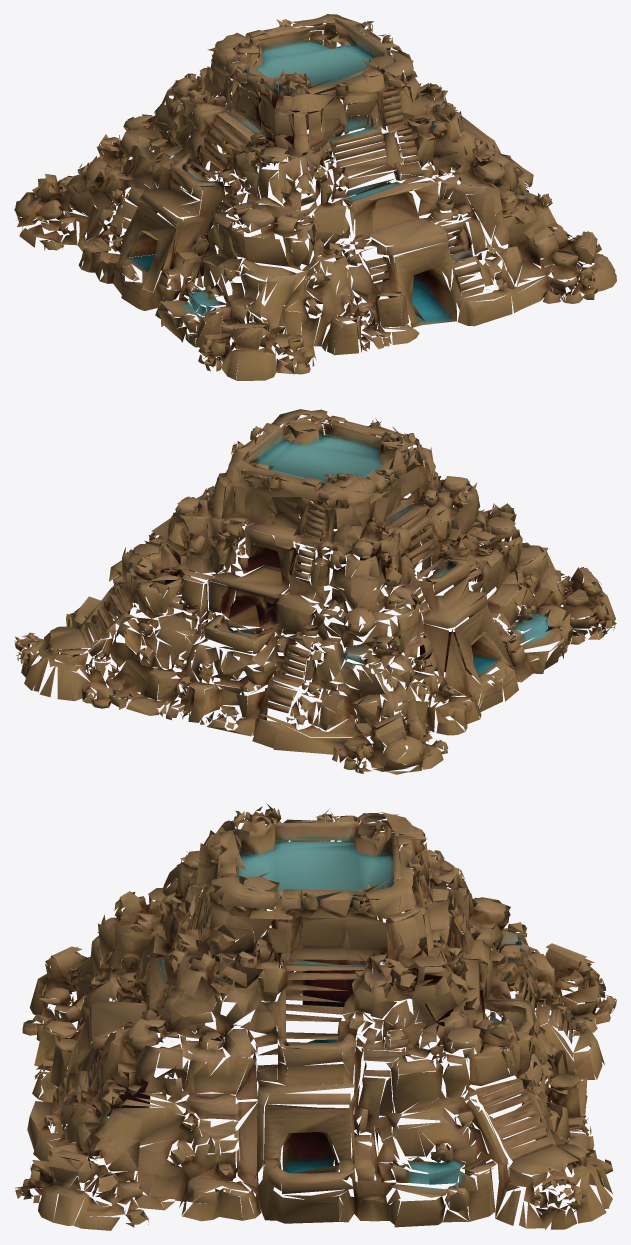
The model's file is cav_rimstone_pool_terrace_LOD1.glb.
3 renders of one model, top to bottom at view 1: azimuth 30°, elevation 25°; view 2: azimuth 150°, elevation 25°; view 3: azimuth 270°, elevation 25°, orthographic. The views are drawn at different scales.
Visible parts, largest first — view 1: tripo_node_12a77af8-fa9d-4081-bc1f-98421c458a2b; view 2: tripo_node_12a77af8-fa9d-4081-bc1f-98421c458a2b; view 3: tripo_node_12a77af8-fa9d-4081-bc1f-98421c458a2b.
Boxes of the visible parts, <box> form: tripo_node_12a77af8-fa9d-4081-bc1f-98421c458a2b: <box>14,14,616,380</box>; tripo_node_12a77af8-fa9d-4081-bc1f-98421c458a2b: <box>14,409,616,774</box>; tripo_node_12a77af8-fa9d-4081-bc1f-98421c458a2b: <box>15,803,616,1230</box>.
Size of the model in its own units: 0.9974 by 0.5005 by 1.
1 material, 1 textured.
